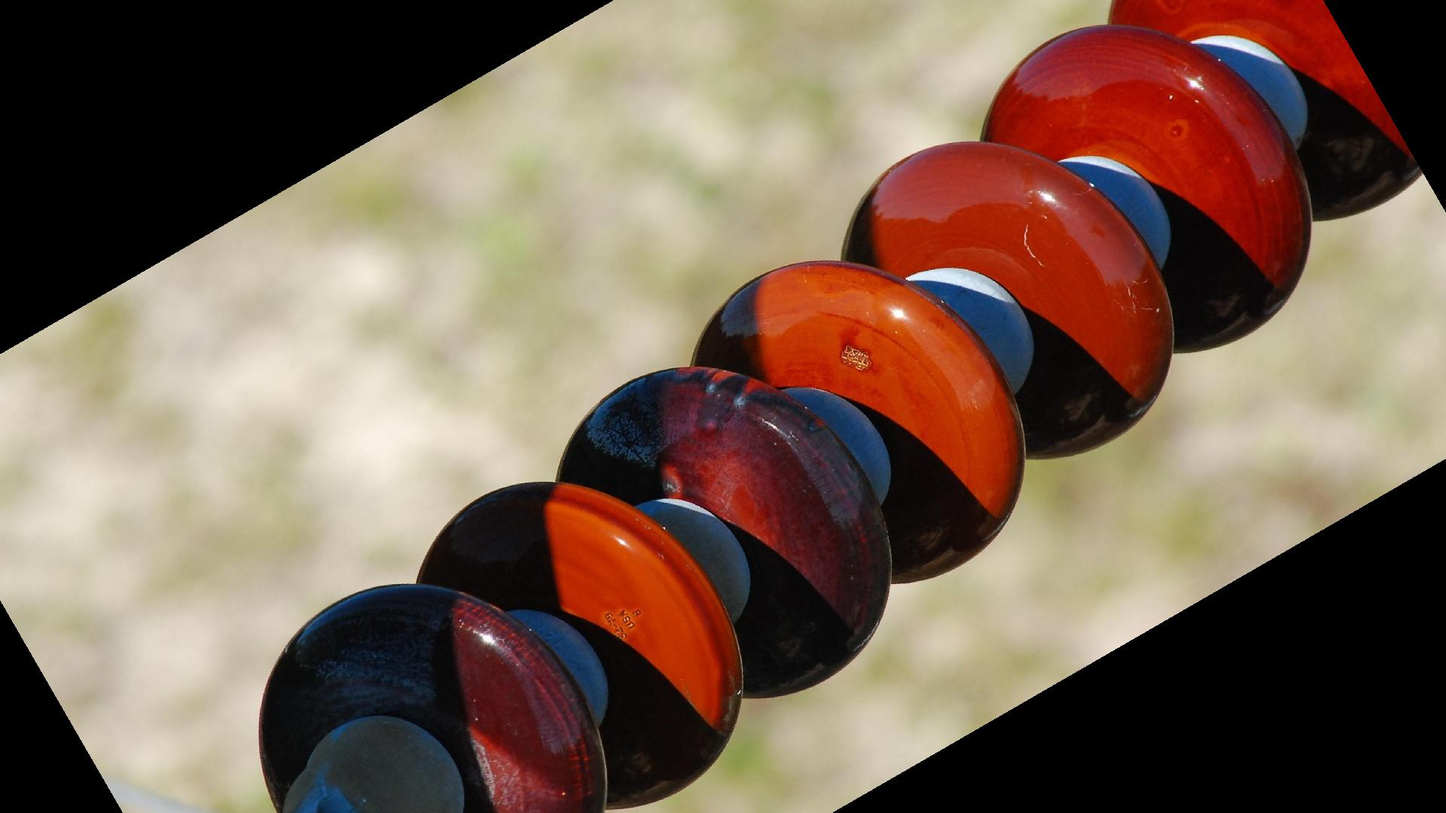insulator: (252, 1, 1428, 813)
insulator_flashover: (581, 358, 737, 466)
